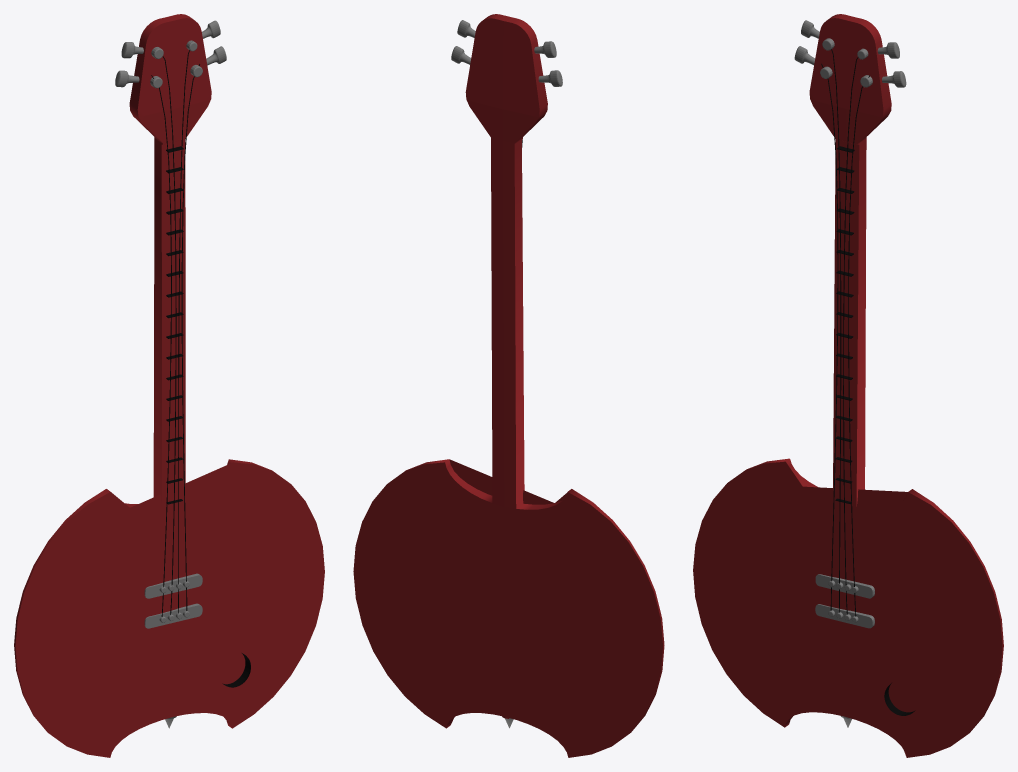
Rendered from axebass.fbx.
3 renders of one model, left to right at view 1: azimuth 30°, elevation 25°; view 2: azimuth 150°, elevation 25°; view 3: azimuth 330°, elevation 25°, orthographic.
Parts seen in each view (by area): view 1: Cube; view 2: Cube; view 3: Cube.
Boxes of the visible parts, x1,y1,x2,y2 form: Cube: (14,14,324,757); Cube: (353,14,664,757); Cube: (693,14,1003,757).
Size of the model in its own units: 1149 by 2563 by 92.27.
